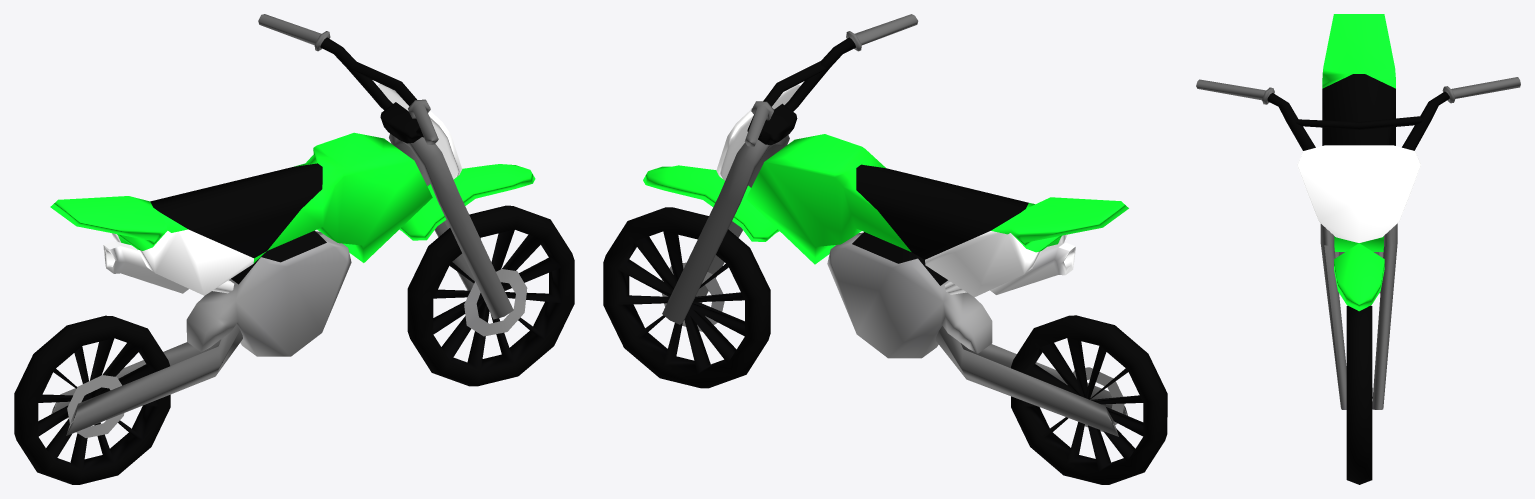
Rendered from DirtBike125ccGreen.glb.
3 renders of one model, left to right at view 1: azimuth 30°, elevation 25°; view 2: azimuth 150°, elevation 25°; view 3: azimuth 270°, elevation 25°, orthographic. The views are drawn at different scales.
Visible parts, largest first — view 1: DirtBike125ccGreen; view 2: DirtBike125ccGreen; view 3: DirtBike125ccGreen.
Part boxes in pixels (x1,y1,x2,y2): DirtBike125ccGreen: [14, 14, 574, 484]; DirtBike125ccGreen: [603, 14, 1167, 484]; DirtBike125ccGreen: [1196, 14, 1520, 484].
Bounding box in the file's own units: 1.92 × 1.13 × 1.01.
1 material, 1 textured.
